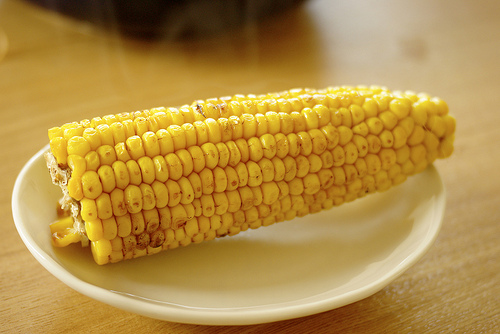corn: (48, 84, 456, 267)
